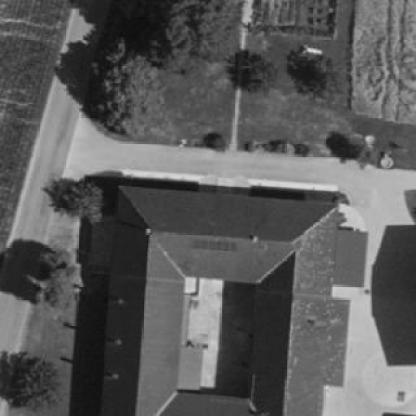solar-pv-panel: (193, 239, 239, 254)
